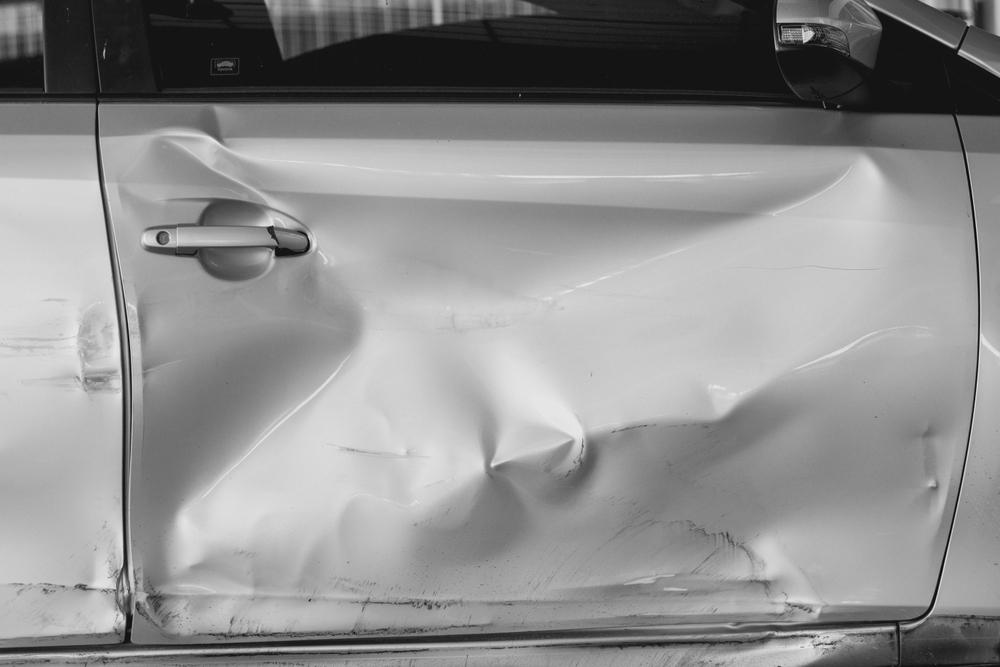dent: (125, 105, 961, 636)
scratch: (0, 286, 120, 398)
